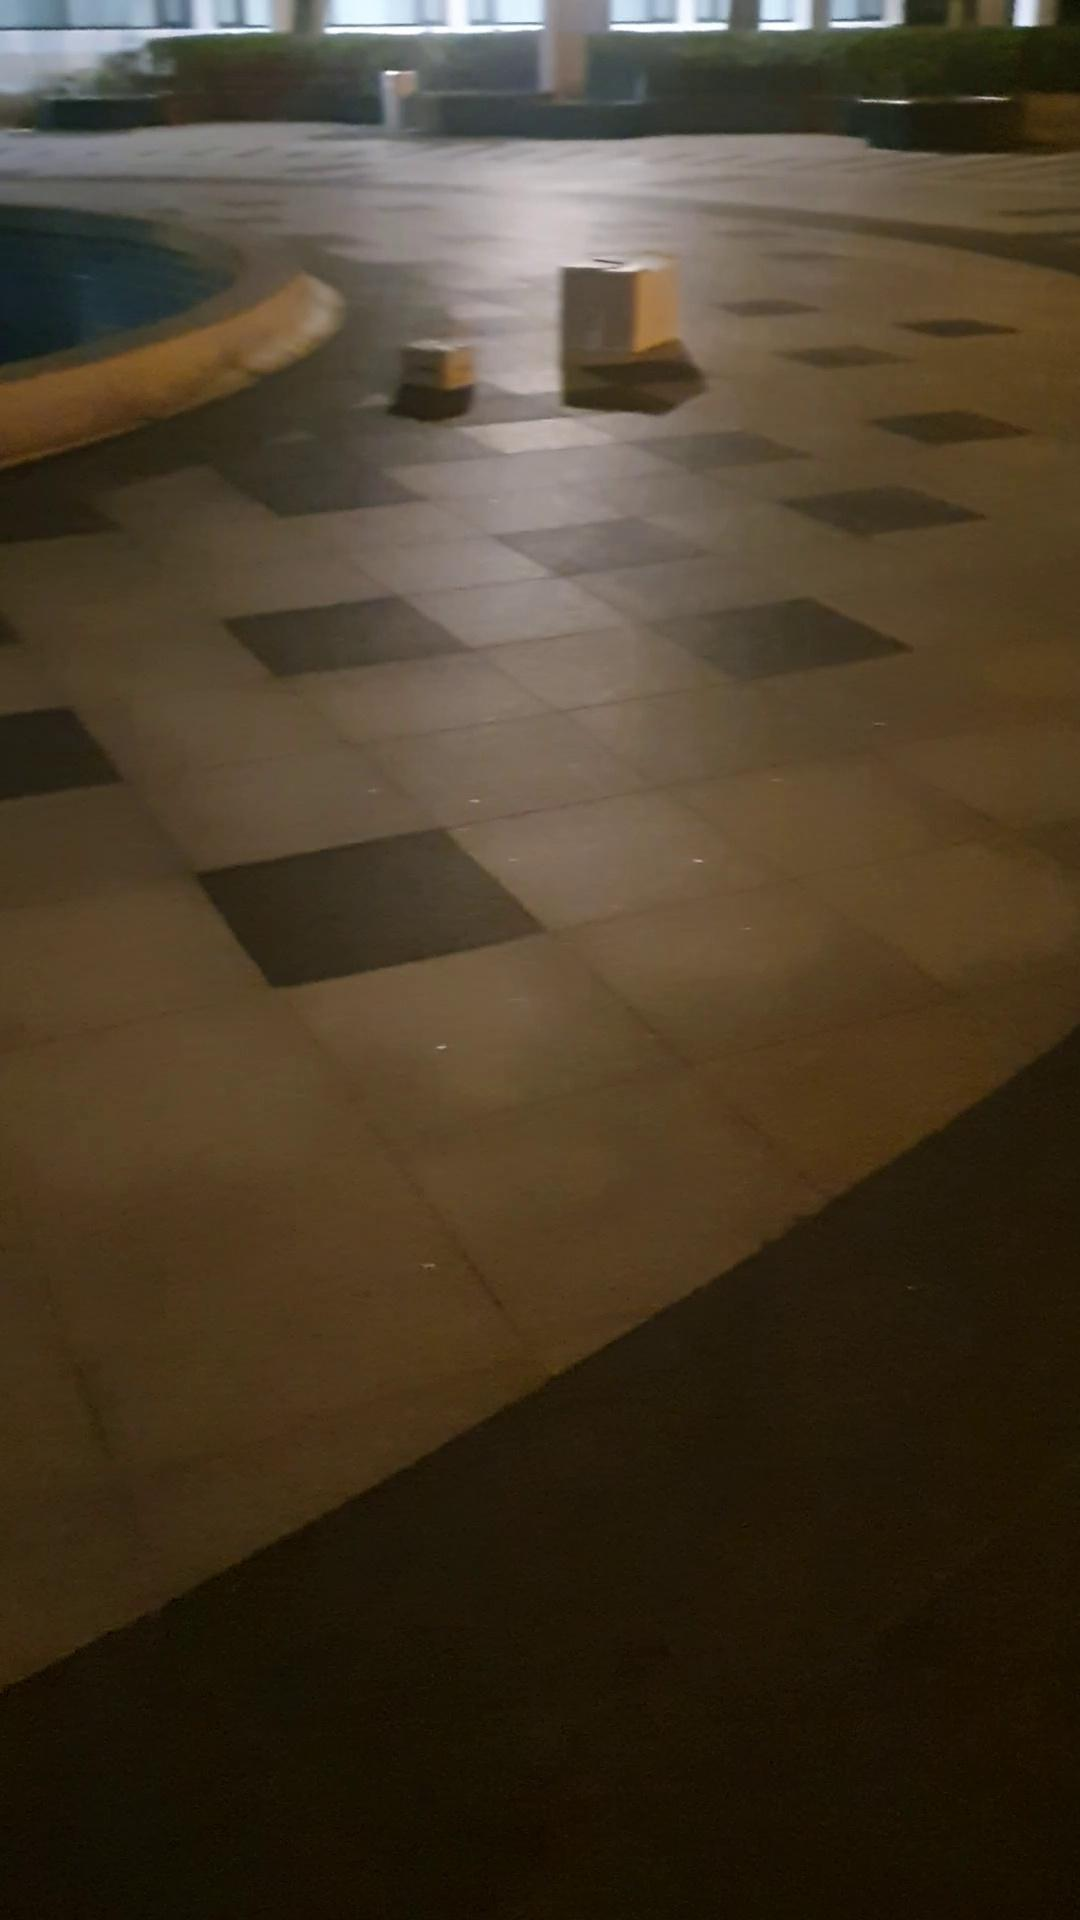Box: (551, 237, 673, 375), (393, 338, 485, 407)
